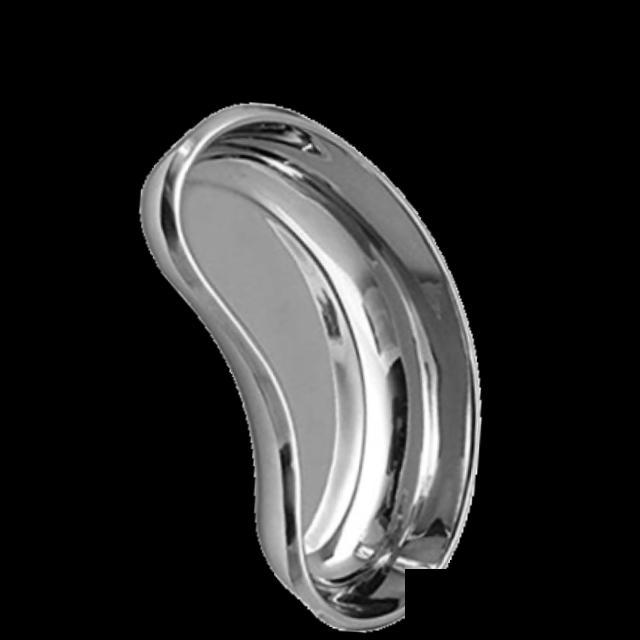Kidney Tray: (110, 81, 514, 640)
